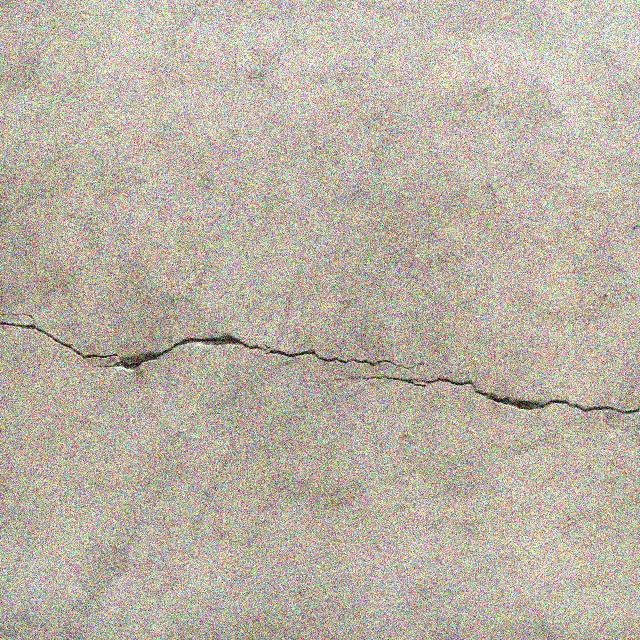SurfaceCrack: (1, 252, 640, 461)
